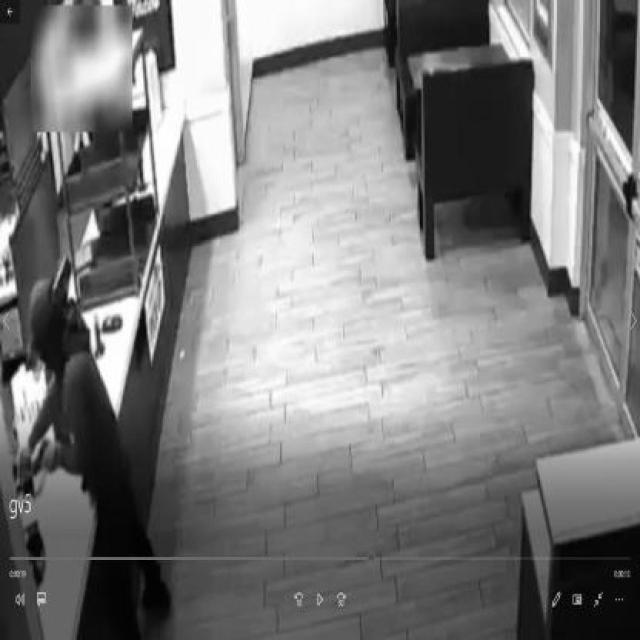weapon: (30, 441, 48, 476)
